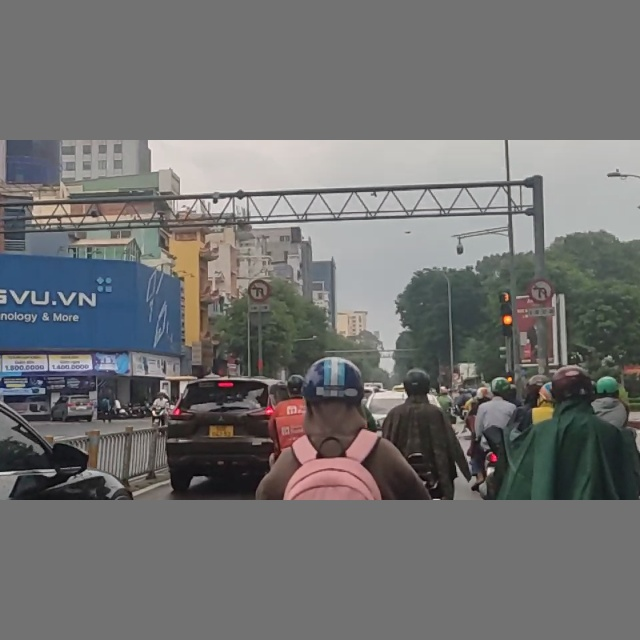P.124c: (248, 279, 271, 301), (531, 280, 553, 302)
